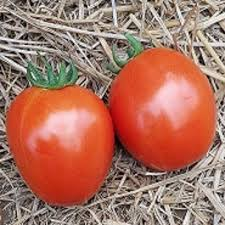tomato: (107, 56, 221, 176), (3, 85, 113, 201)
